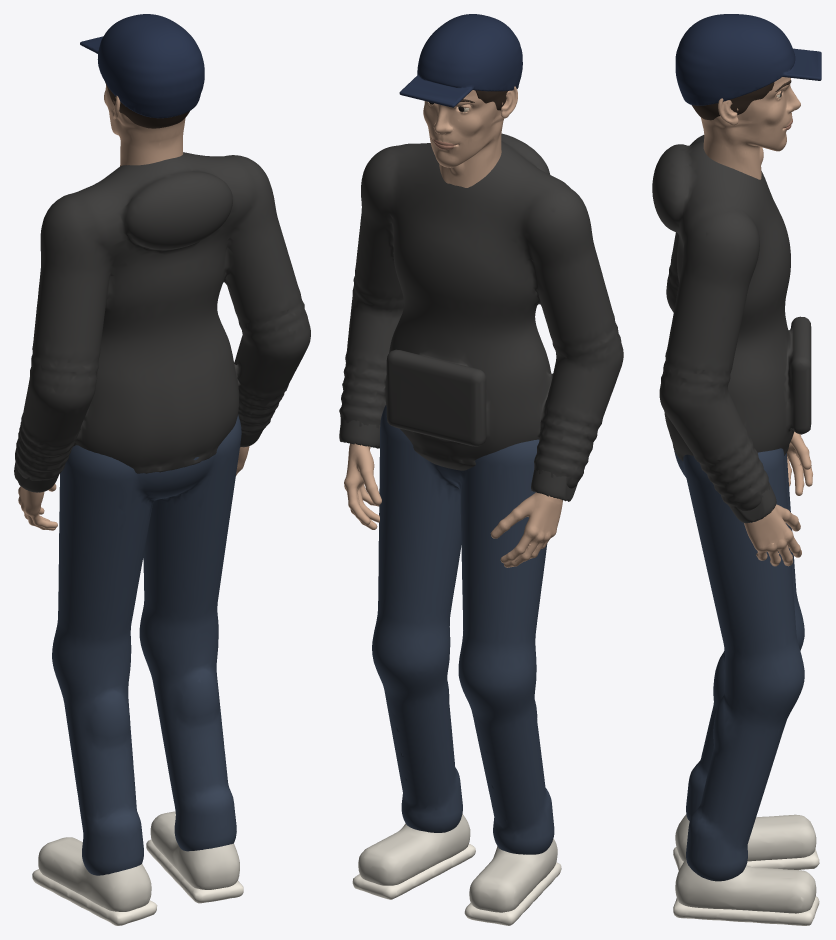
File: ballcap_cap.glb
3 views of the same model, side by side, from view 1: azimuth 30°, elevation 25°; view 2: azimuth 150°, elevation 25°; view 3: azimuth 270°, elevation 25° (orthographic).
Visible parts, largest first — view 1: ballcap_cap_body, ballcap_cap_head, ballcap_cap_hands; view 2: ballcap_cap_body, ballcap_cap_head, ballcap_cap_hands; view 3: ballcap_cap_body, ballcap_cap_head, ballcap_cap_hands.
Boxes of the visible parts, x1,y1,x2,y2 form: ballcap_cap_body: (15,152,310,925); ballcap_cap_head: (80,14,204,166); ballcap_cap_hands: (14,430,262,530); ballcap_cap_body: (339,133,623,925); ballcap_cap_head: (399,14,522,187); ballcap_cap_hands: (339,418,577,567); ballcap_cap_body: (652,135,819,925); ballcap_cap_head: (675,14,821,179); ballcap_cap_hands: (728,431,812,566).
Size of the model in its own units: 0.552 by 1.7 by 0.3008.
